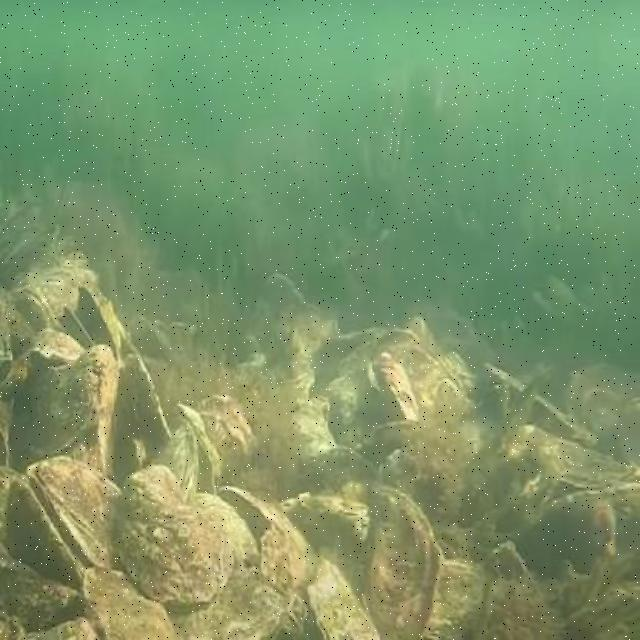Oyster-Closed: (121, 469, 239, 602), (12, 344, 119, 465), (371, 478, 440, 640), (24, 465, 122, 572), (7, 474, 82, 590), (521, 431, 635, 489), (81, 579, 182, 640), (0, 555, 78, 629), (307, 557, 376, 640), (153, 427, 201, 500)
Oyster-Open: (59, 276, 119, 366)
